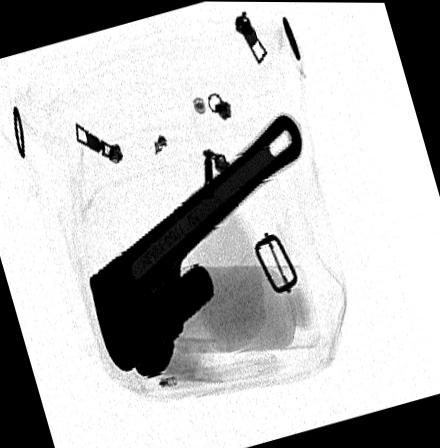Wrench: (87, 111, 303, 377)
